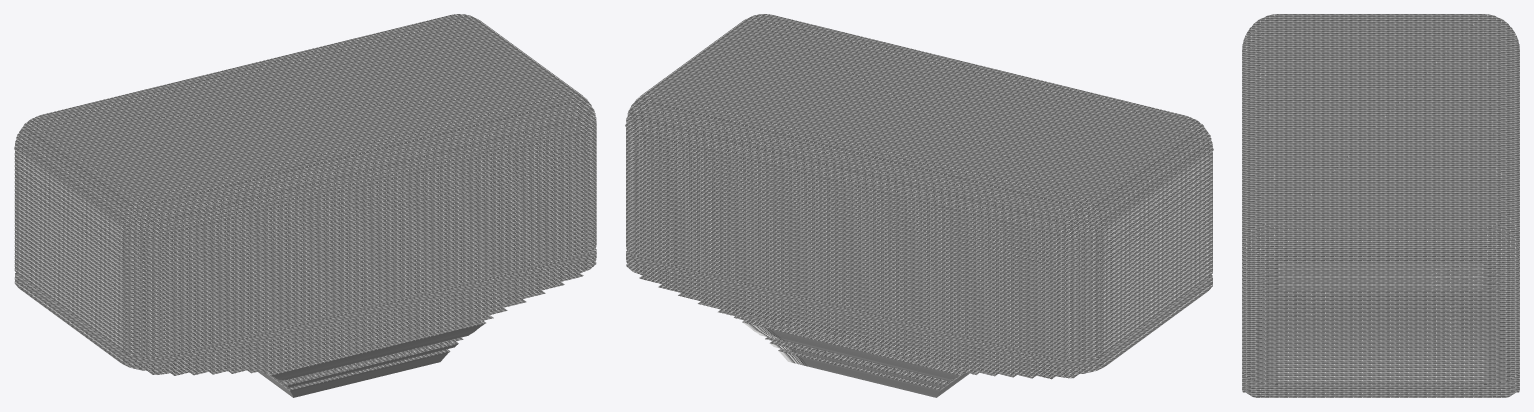
The model's file is central.glb.
3 views of the same model, side by side, from view 1: azimuth 30°, elevation 25°; view 2: azimuth 150°, elevation 25°; view 3: azimuth 270°, elevation 25° (orthographic).
Parts seen in each view (by area): view 1: pasted__Object_20; view 2: pasted__Object_20; view 3: pasted__Object_20.
Part boxes in pixels (bbox=[...]): pasted__Object_20: bbox=[14, 14, 596, 397]; pasted__Object_20: bbox=[625, 14, 1213, 397]; pasted__Object_20: bbox=[1242, 14, 1519, 397].
Size of what is drawn, in the model's own units: 65.68 by 31.38 by 33.46.
Materials: 4 (1 with a texture image).
